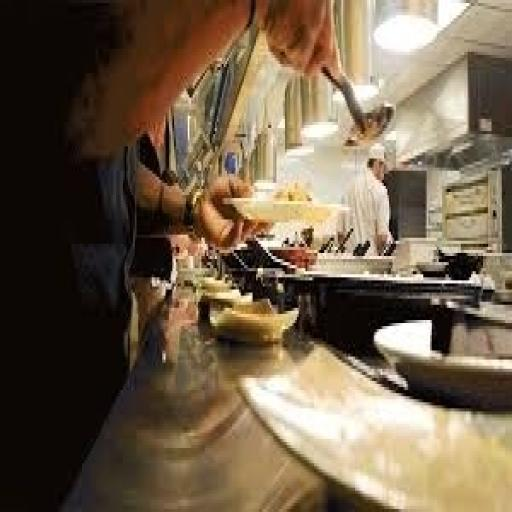eating: (0, 0, 364, 506)
